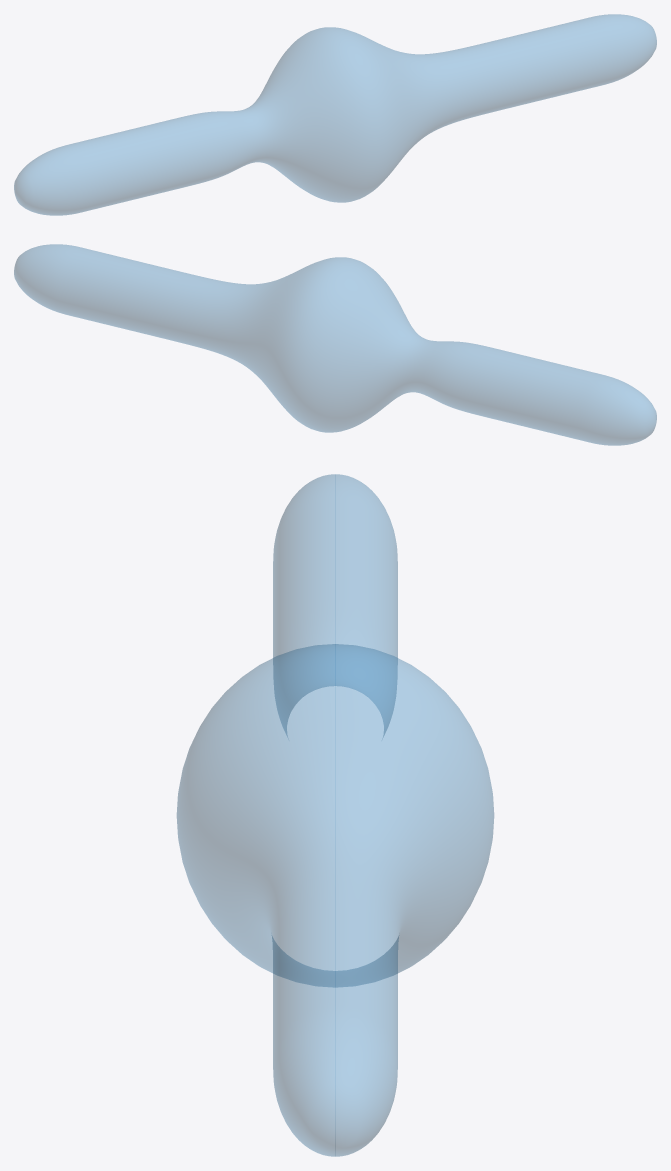
3 views of the same model, one above another, from view 1: azimuth 30°, elevation 25°; view 2: azimuth 150°, elevation 25°; view 3: azimuth 270°, elevation 25° (orthographic). The views are drawn at different scales.
Visible parts, largest first — view 1: liquid-rail; view 2: liquid-rail; view 3: liquid-rail.
Boxes of the visible parts, box(x1,y1,x2,y2) form: liquid-rail: box(14, 14, 656, 215); liquid-rail: box(14, 244, 656, 445); liquid-rail: box(177, 474, 493, 1156).
Size of the model in its own units: 2.72 by 0.6652 by 0.5844.
